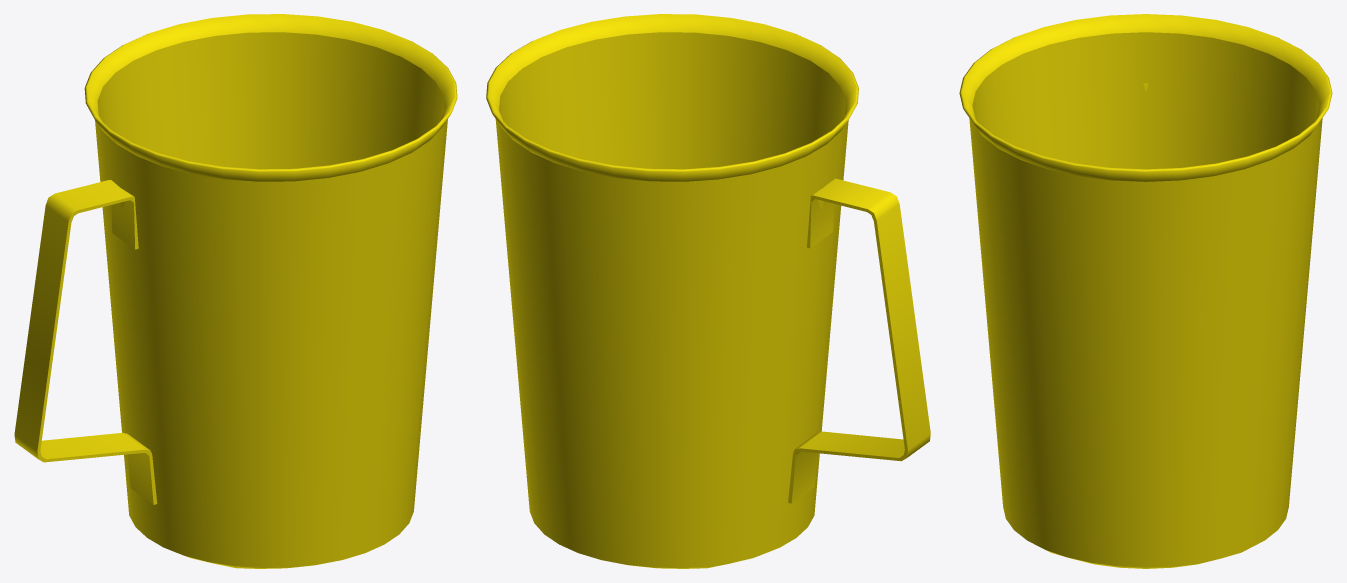
Rendered from SM_Graduated_Measure.FBX.
3 renders of one model, left to right at view 1: azimuth 30°, elevation 25°; view 2: azimuth 150°, elevation 25°; view 3: azimuth 270°, elevation 25°, orthographic.
Visible parts, largest first — view 1: Graduated_Measure; view 2: Graduated_Measure; view 3: Graduated_Measure.
Boxes of the visible parts, box(x1,y1,x2,y2) form: Graduated_Measure: box(14, 14, 457, 568); Graduated_Measure: box(486, 14, 930, 568); Graduated_Measure: box(959, 14, 1332, 568).
Bounding box in the file's own units: 145 × 143 × 115.
